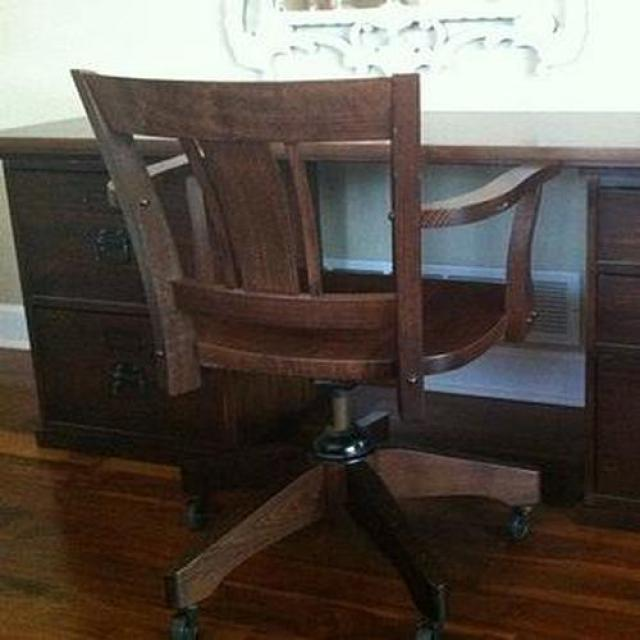table: (72, 70, 563, 640)
